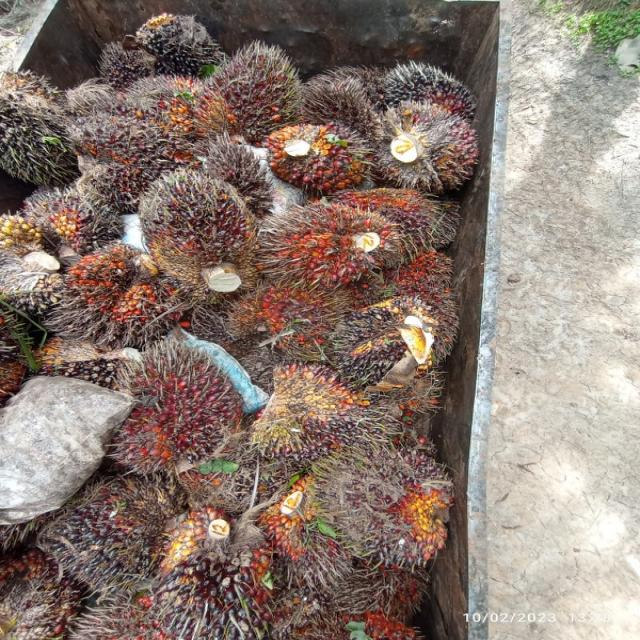fraksi 00: (292, 432, 471, 570), (130, 504, 286, 640), (34, 477, 195, 594), (244, 360, 389, 470), (330, 288, 452, 404), (66, 106, 185, 215), (125, 0, 245, 83), (0, 68, 80, 188), (14, 182, 123, 260), (380, 46, 479, 129), (79, 36, 165, 90)
fraksi 1: (104, 356, 239, 476), (130, 164, 262, 282), (191, 36, 313, 153), (244, 116, 382, 196), (332, 163, 452, 252), (377, 103, 491, 194)
fraksi 4: (260, 188, 402, 296), (52, 243, 184, 336), (231, 275, 343, 353), (367, 247, 455, 300)
